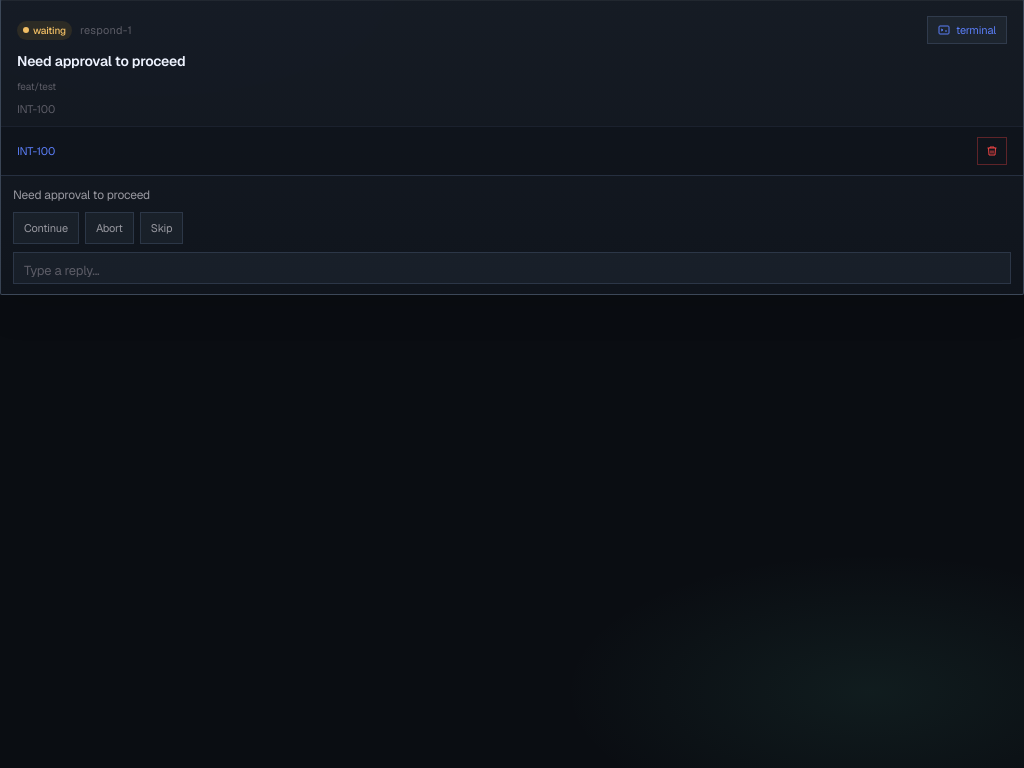
Test: SessionCard › prevents duplicate quick-reply preset sends while a send is in flight
Click the button "Continue" at x=46, y=228, box [13,212,79,244]
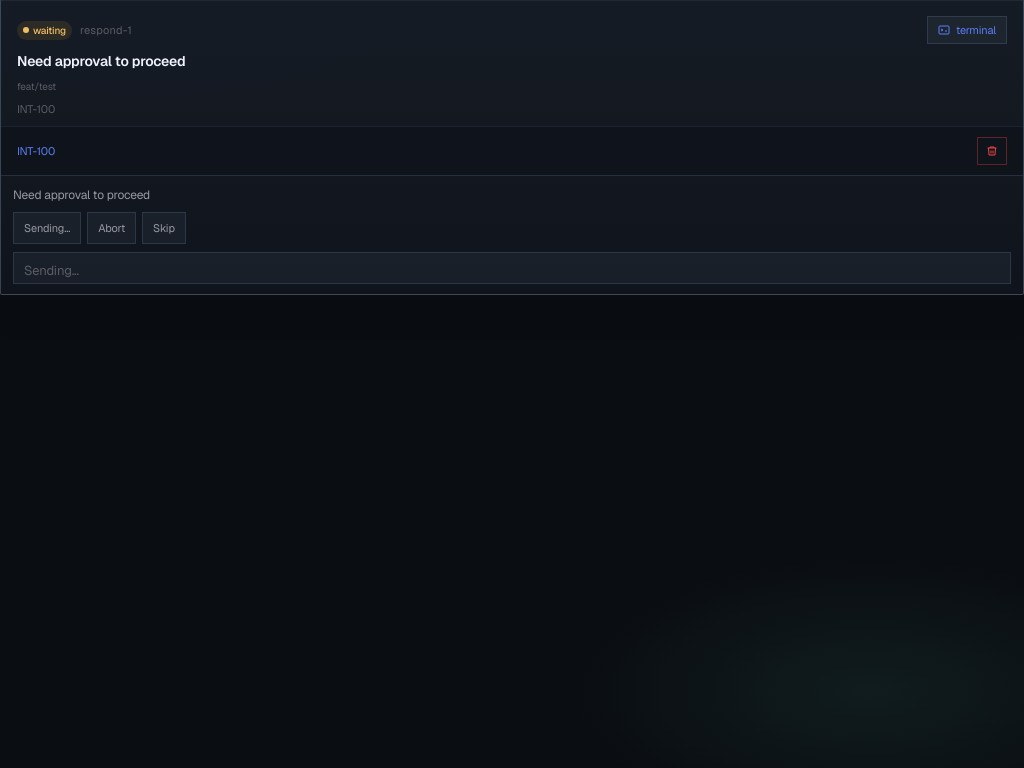
Check: the button "Sending..." is disabled, box [13,212,81,244]
Check: the button "Abort" is disabled
Check: the text box named "type a reply to the agent" is disabled, box [13,252,1011,284]
Click the button "Abort" at x=112, y=228, box [87,212,136,244]
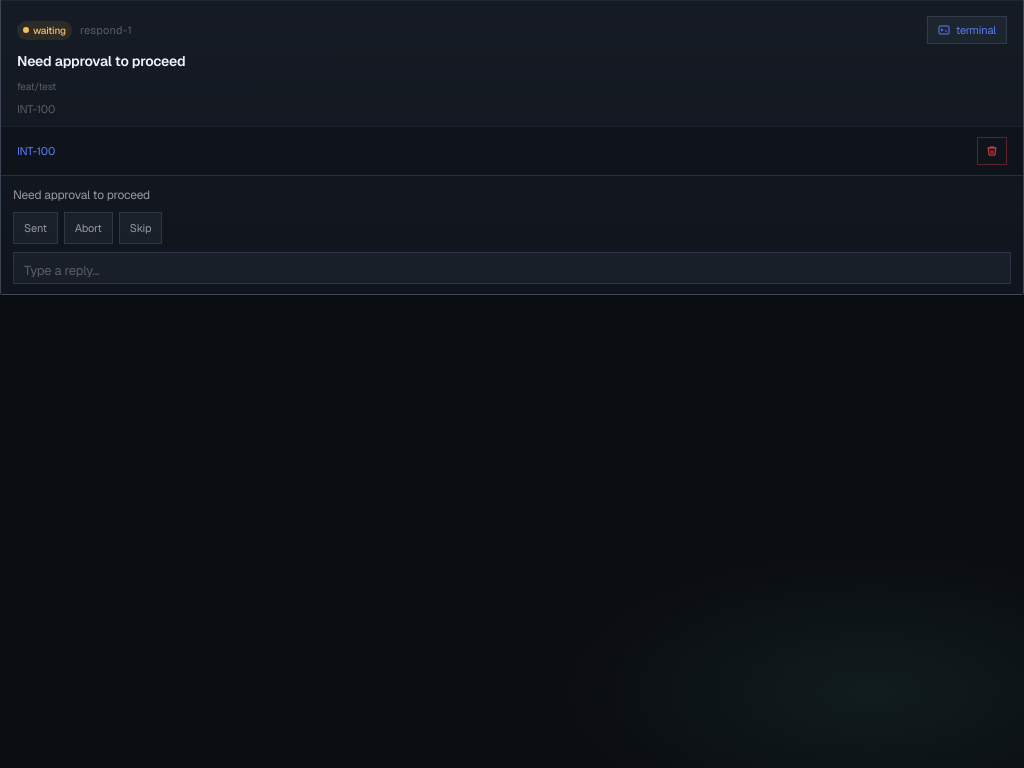
Check: the button "Sent" is shown, box [13,212,58,244]
